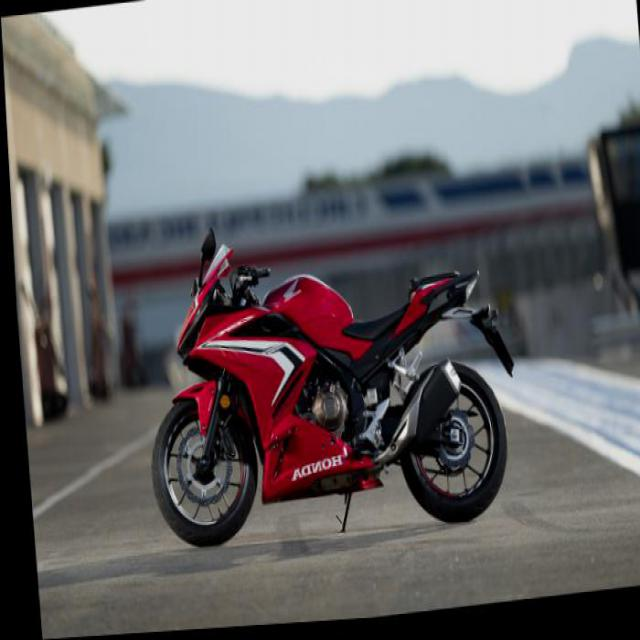CBR500R: (129, 217, 513, 560)
